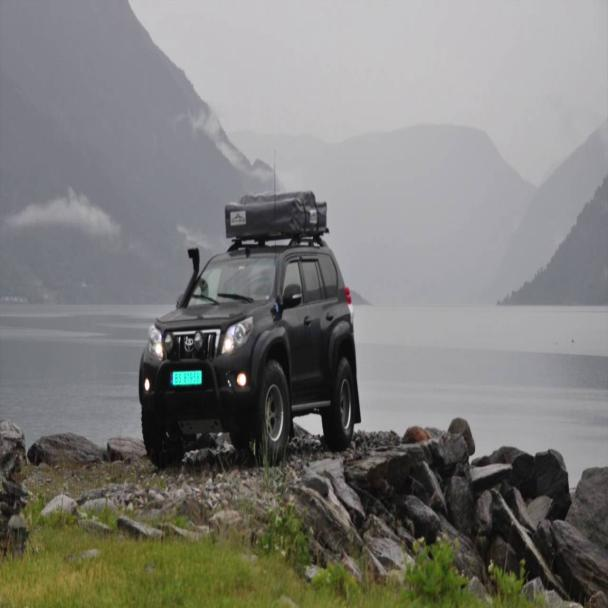Mobil: (136, 187, 362, 465)
